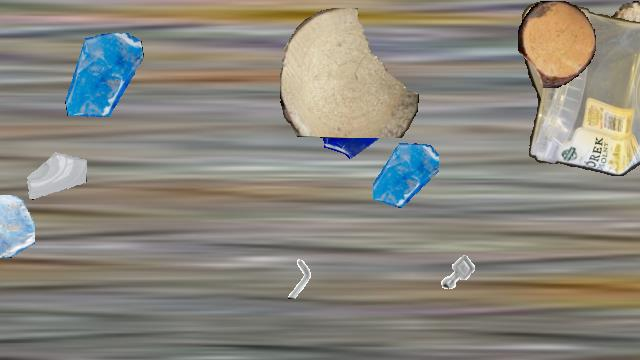glass: (62, 33, 146, 117), (312, 78, 394, 160), (373, 142, 439, 208), (26, 140, 86, 200), (0, 195, 34, 257)
metal: (433, 247, 483, 297), (278, 257, 320, 299)
plastic: (522, 1, 640, 175)
wood: (280, 8, 418, 138), (576, 1, 640, 127), (518, 1, 596, 87)
